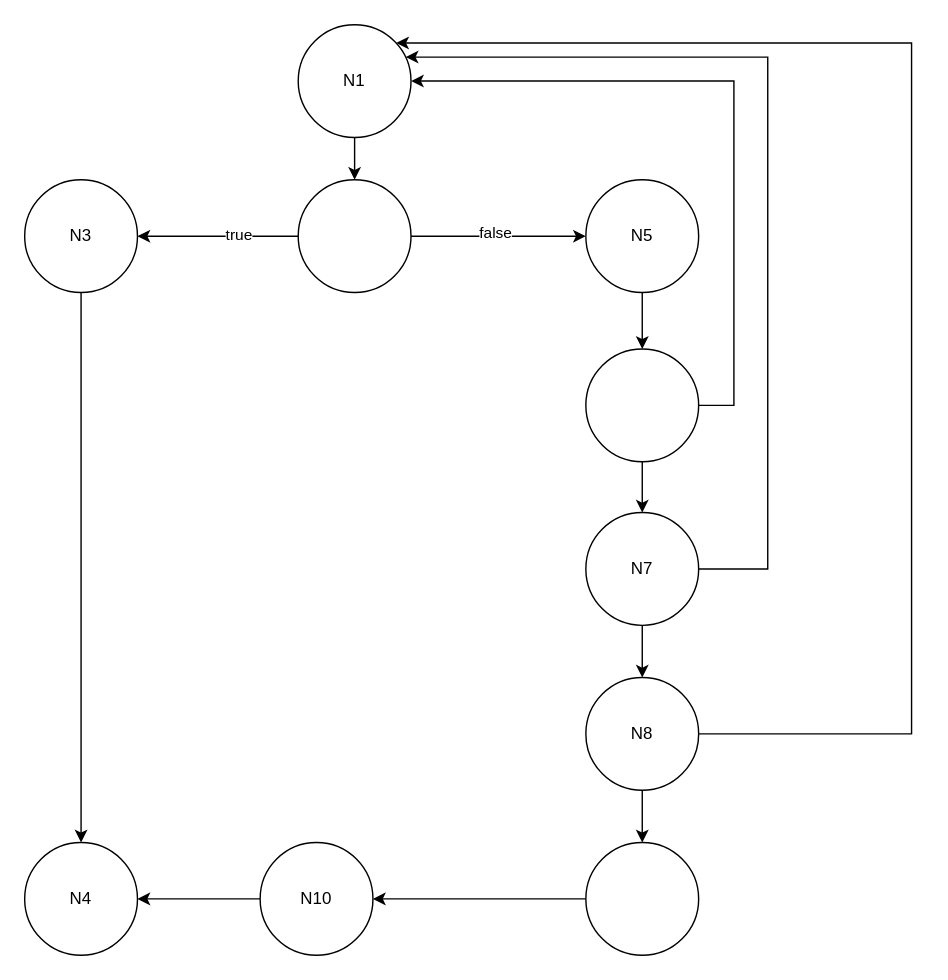
The diagram is 948 pixels wide and 980 high, and some of its shapes have lost their labels. The shapes that lost their labels are listed below. From the top down, each one's centre as x and y in pixels, then its label:
At [354,235]: "N2".
At [641,405]: "N6".
At [641,898]: "N9".
